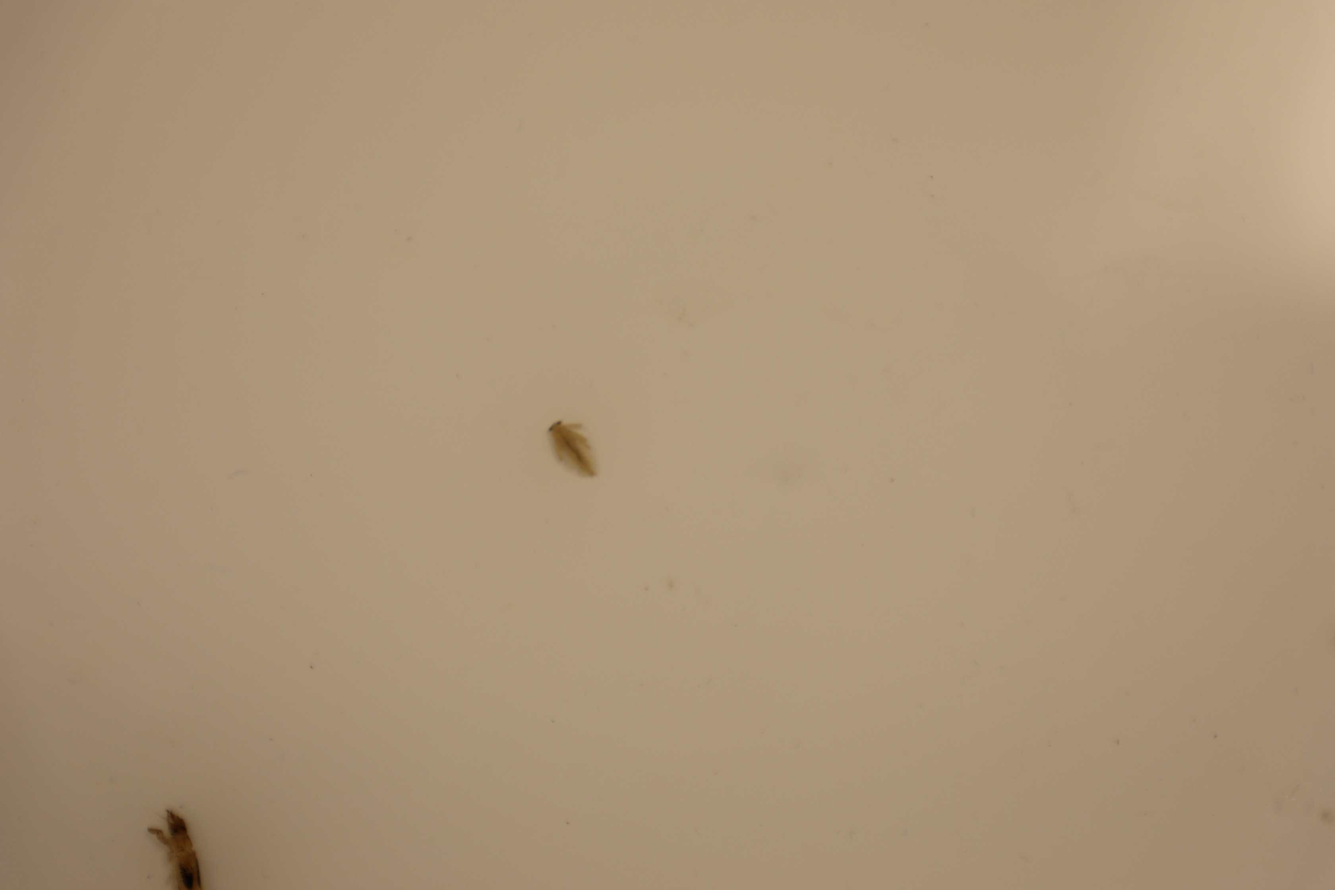Mayfly: (539, 410, 605, 481)
Other: (142, 797, 207, 890)
